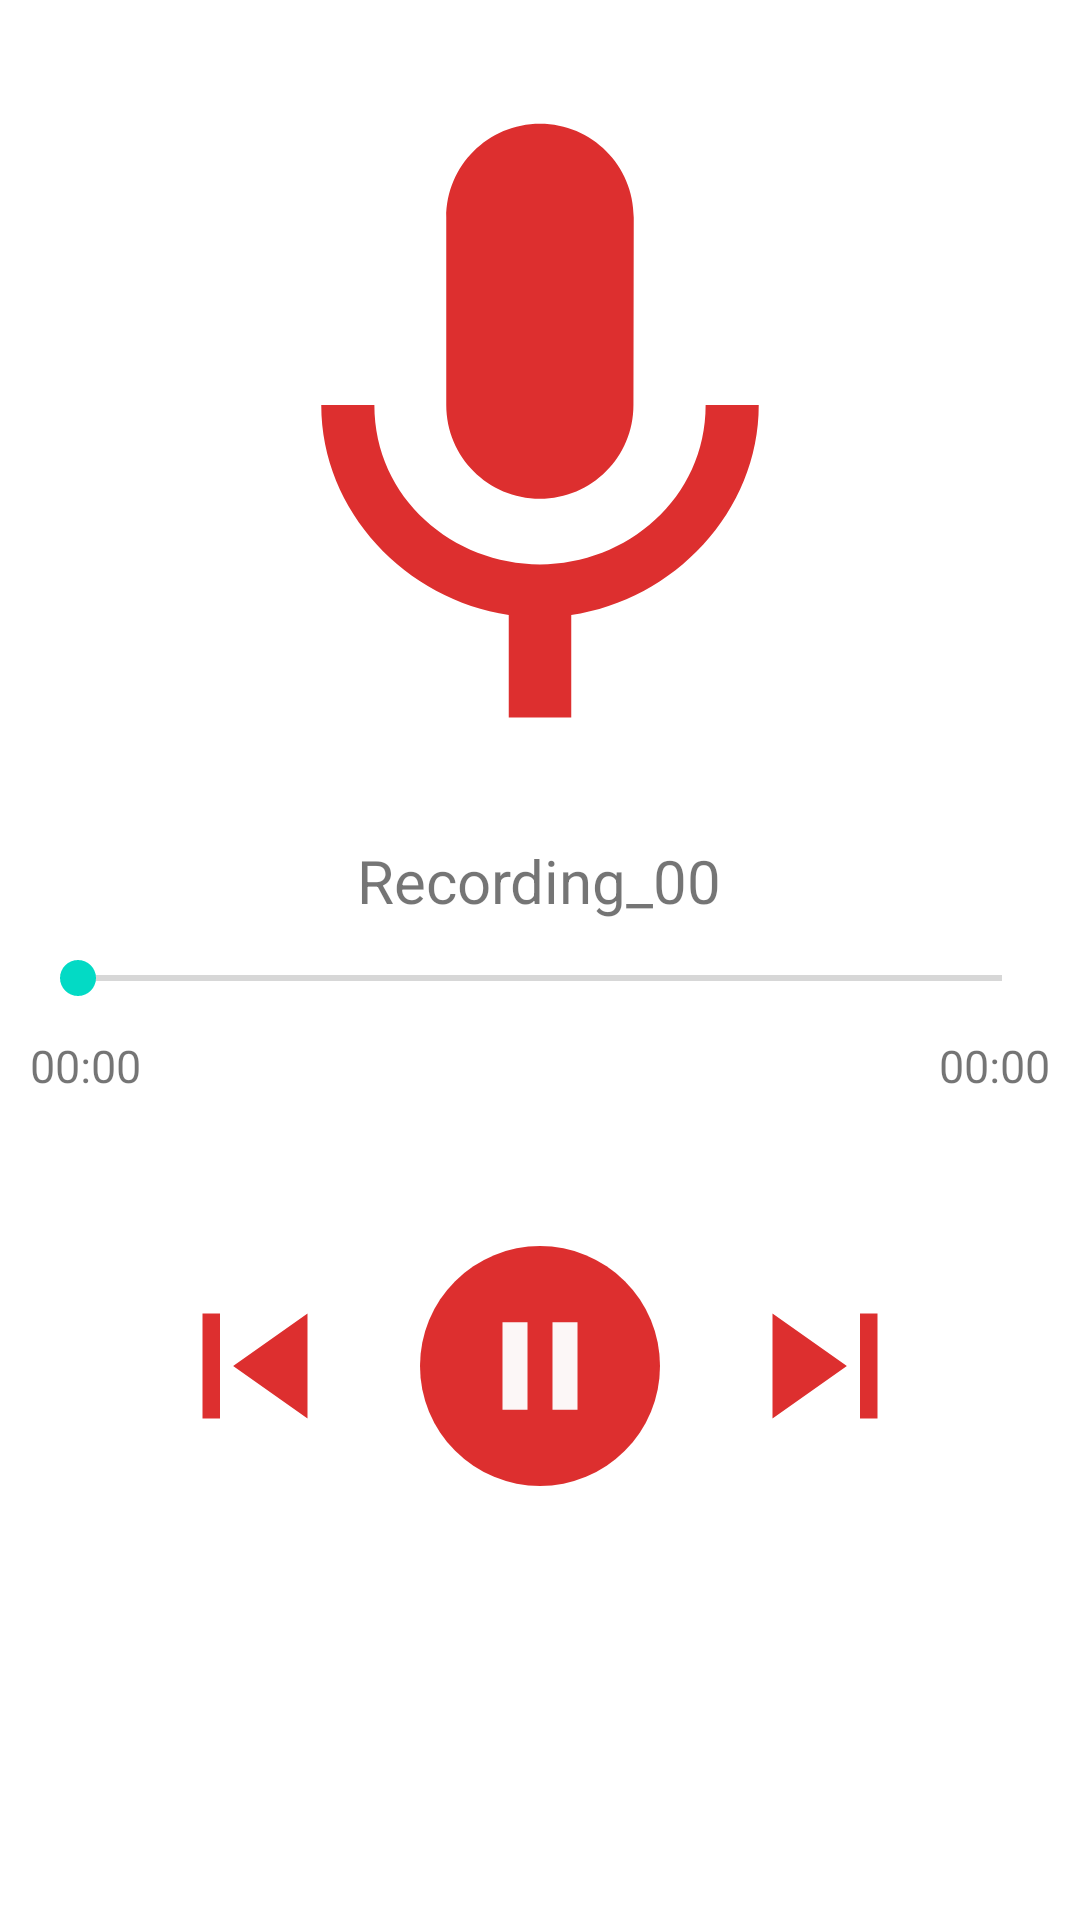

Point at icon controls on the screen. Image size 1080px x 1920px, points as (x=x, y=y).
pause: (x=540, y=1366)
skip next: (x=825, y=1366)
skip previous: (x=255, y=1366)
